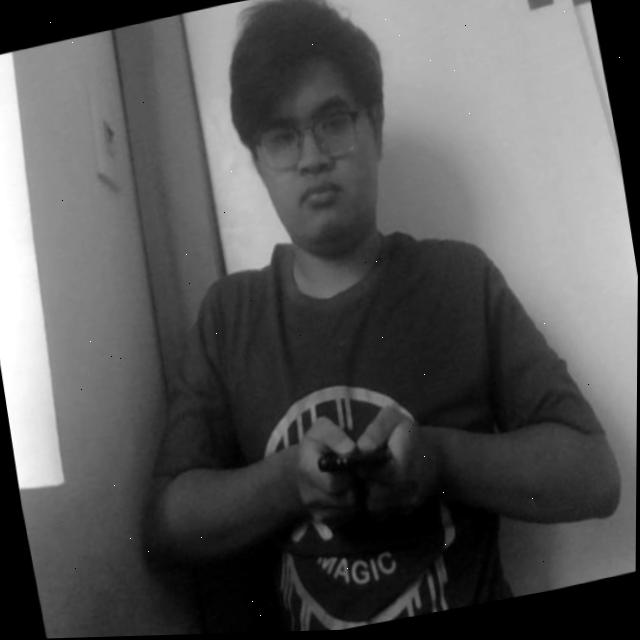phone: (307, 408, 413, 513)
